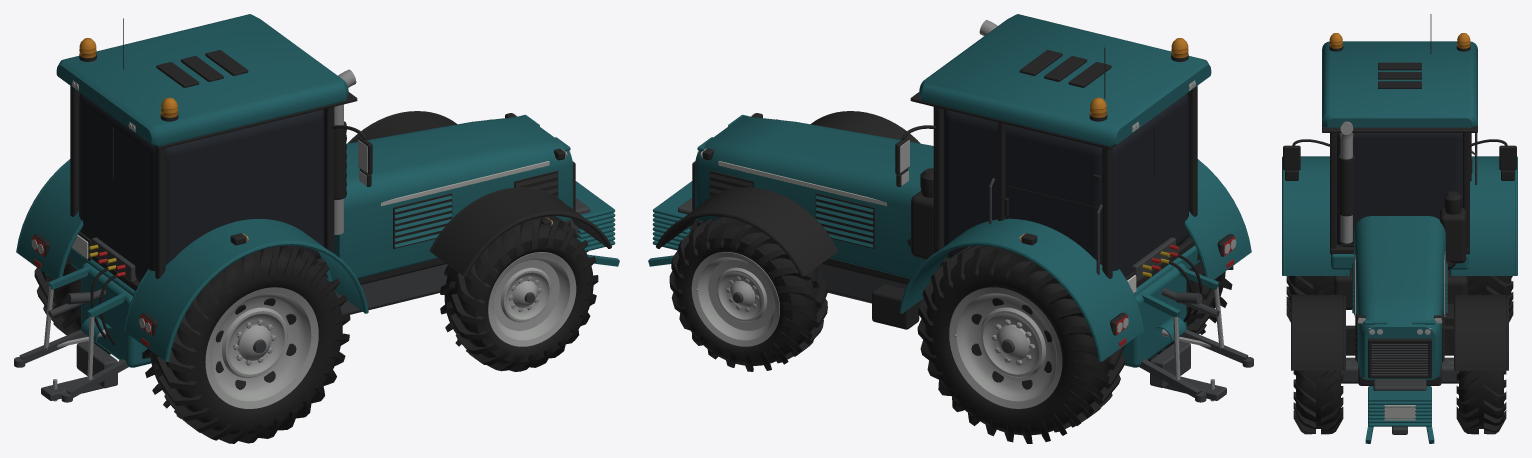
Rendered from SM_Prop_farm_tractor_0.glb.
The picture shows the model from 3 angles, left to right: view 1: azimuth 30°, elevation 25°; view 2: azimuth 150°, elevation 25°; view 3: azimuth 270°, elevation 25°; orthographic projection. The views are drawn at different scales.
Parts seen in each view (by area): view 1: SM_Prop_farm_tractor_0; view 2: SM_Prop_farm_tractor_0; view 3: SM_Prop_farm_tractor_0.
Boxes of the visible parts, x1,y1,x2,y2 form: SM_Prop_farm_tractor_0: (14,14,619,443); SM_Prop_farm_tractor_0: (648,14,1253,443); SM_Prop_farm_tractor_0: (1282,14,1517,443).
Size of the model in its own units: 5.71 by 3.62 by 2.66.
